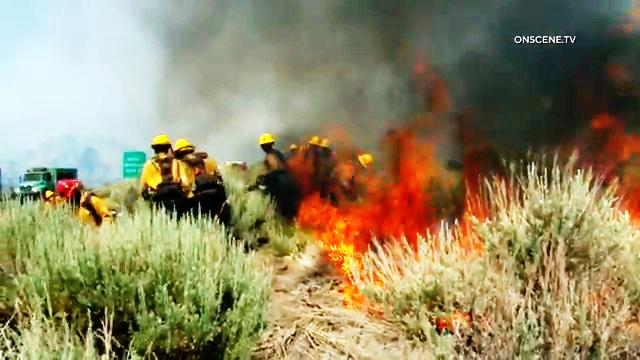fire: (308, 203, 430, 317)
smoke: (258, 0, 491, 120)
